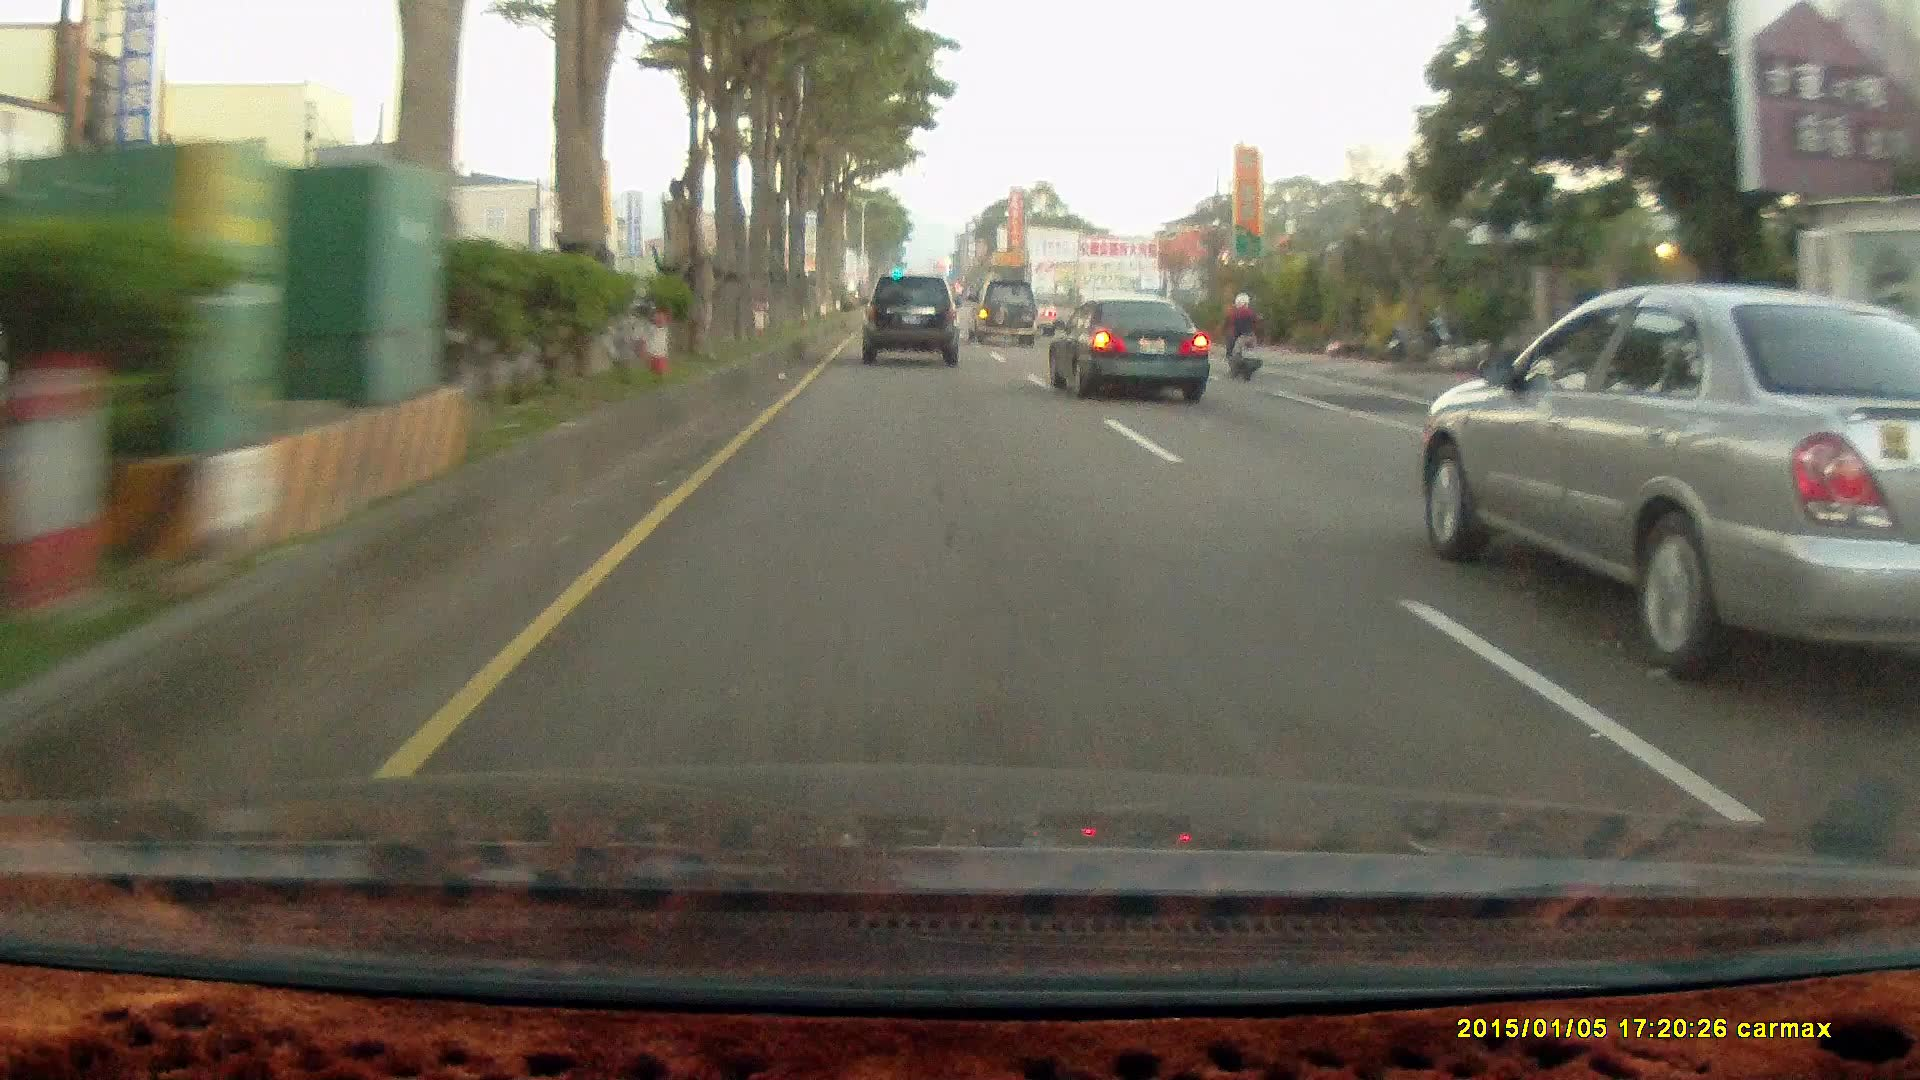rider: (1213, 284, 1271, 390), (1214, 288, 1262, 381)
vehicle: (1417, 293, 1918, 694), (1050, 296, 1216, 405), (1046, 294, 1209, 401), (862, 267, 965, 365), (857, 273, 957, 366), (968, 278, 1043, 345), (966, 279, 1041, 346)
